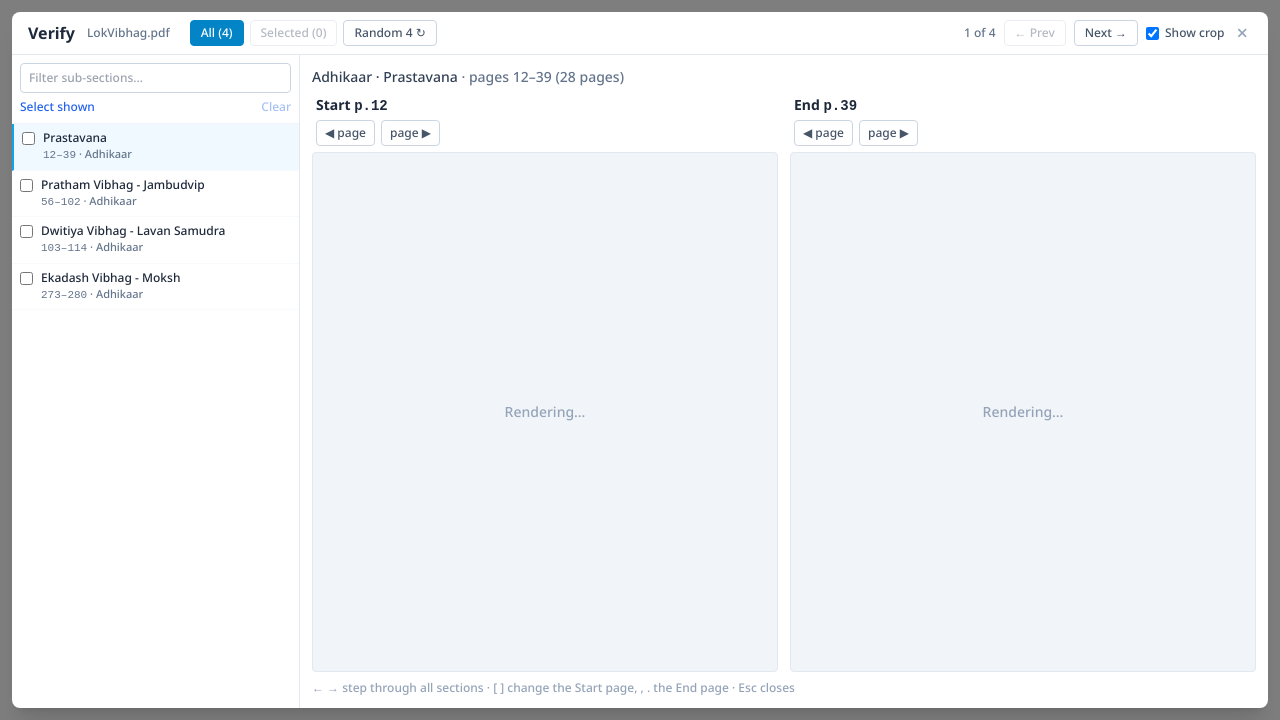
Test: with fewer than 10 sub-sections, Random uses all of them
The width and height of the screenshot is (1280, 720).
Step 1. Click the button "Random 4 ↻" → (390, 33), box [343,20,437,46]
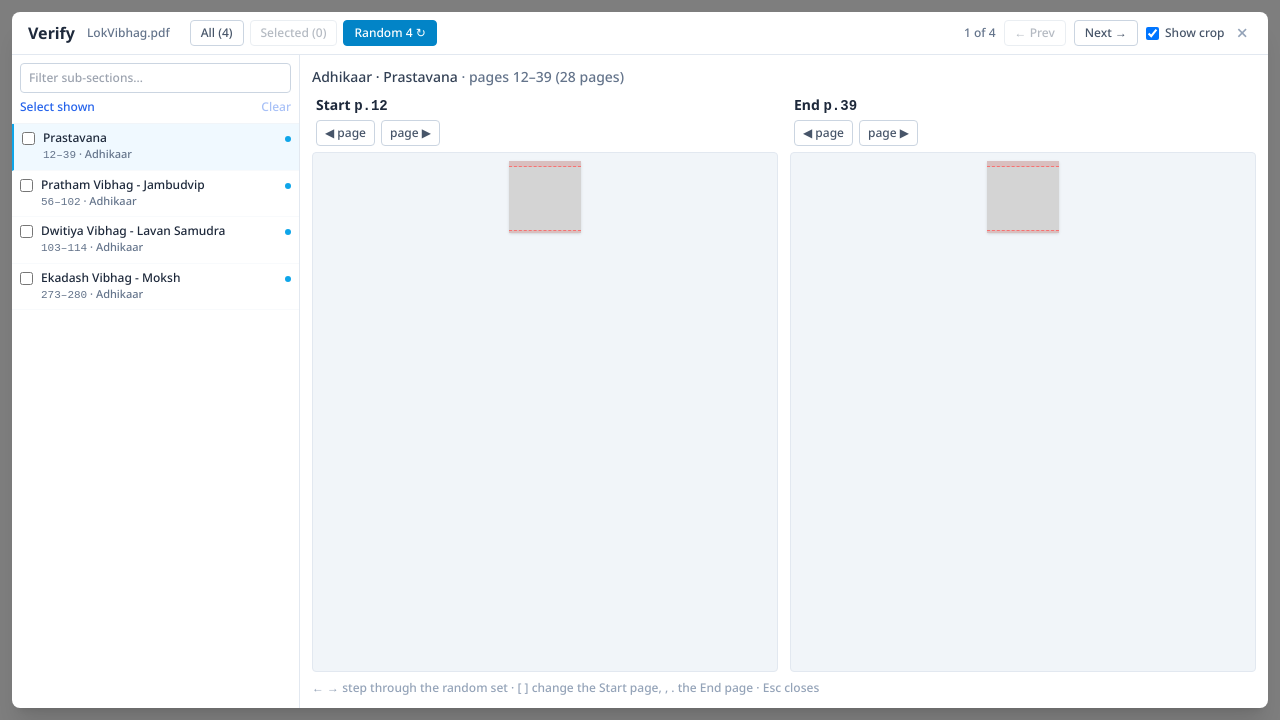
Now the number of elements titled "In this set" is 4, box [285,136,291,142]; [285,182,291,188]; [285,229,291,235]; [285,276,291,282]
